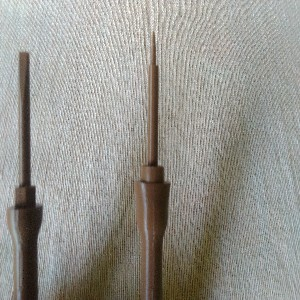obeng: (6, 50, 44, 300)
solder: (133, 29, 172, 300)
